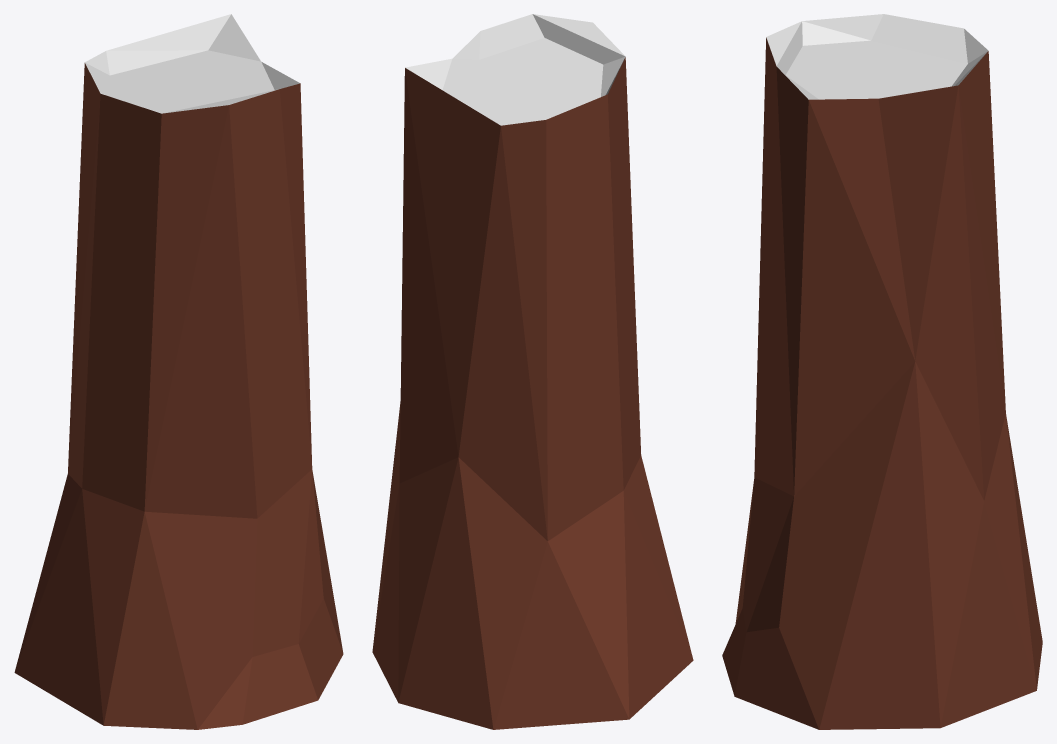
Rendered from pine_trunk_type_7_extra_LOD2.fbx.
The picture shows the model from 3 angles, left to right: view 1: azimuth 30°, elevation 25°; view 2: azimuth 150°, elevation 25°; view 3: azimuth 270°, elevation 25°; orthographic projection. The views are drawn at different scales.
Visible parts, largest first — view 1: pt_type_7.001; view 2: pt_type_7.001; view 3: pt_type_7.001.
Part boxes in pixels (x1,y1,x2,y2): pt_type_7.001: (14, 14, 343, 729); pt_type_7.001: (372, 14, 693, 729); pt_type_7.001: (722, 14, 1042, 729).
Size of the model in its own units: 195 by 422 by 197.
